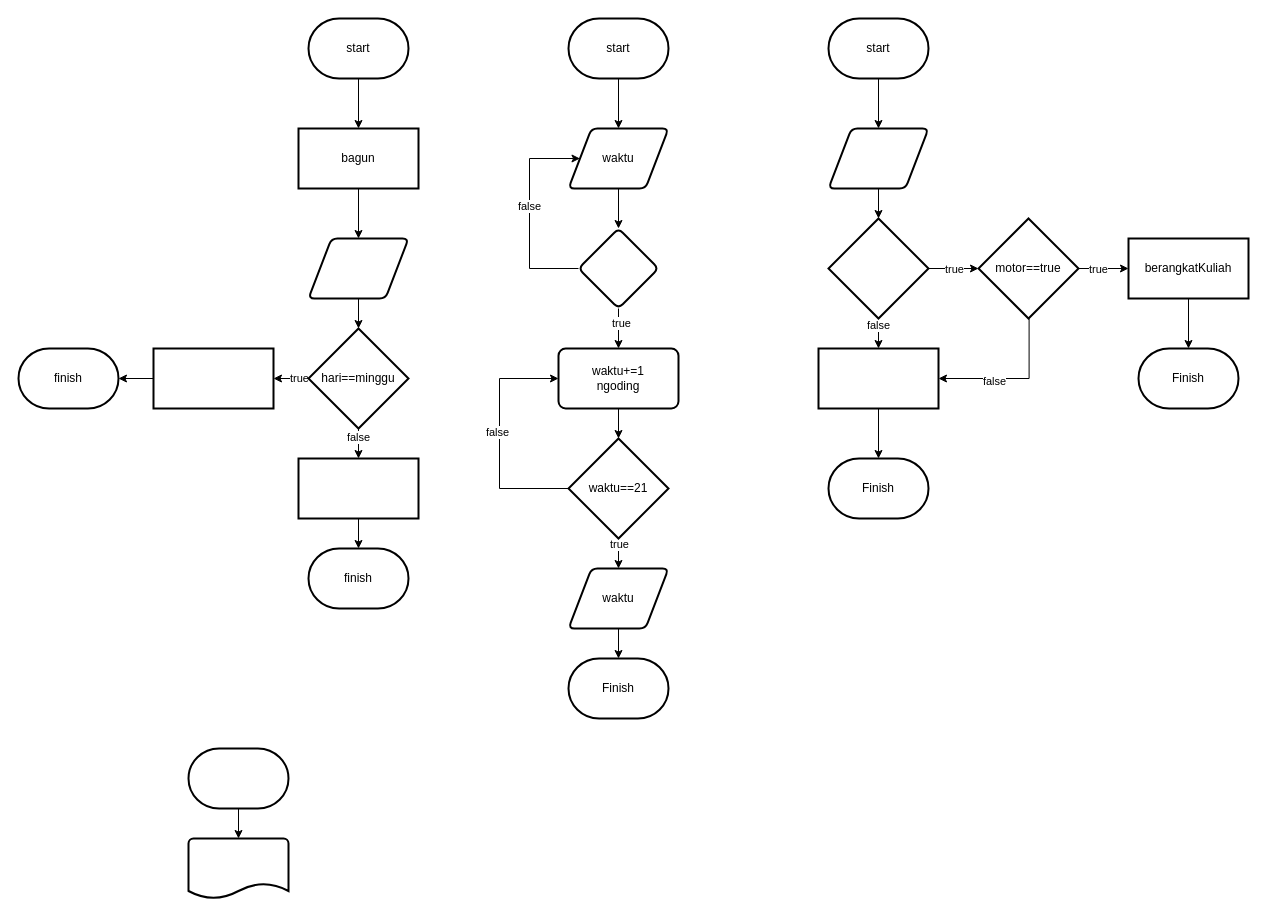
The diagram is 1266 pixels wide and 916 high, and some of its shapes have lost their labels. Each missing label, with the centre of its shape:
a:8,7,6;b;c: the point at 238,868
hari: the point at 358,268
hari!=libur: the point at 878,268
hari,motor: the point at 878,158
lanjut tidur: the point at 878,378
masuk kuliah: the point at 358,488
pergi ke sawah cari angin: the point at 213,378
waktu>=19: the point at 618,268
